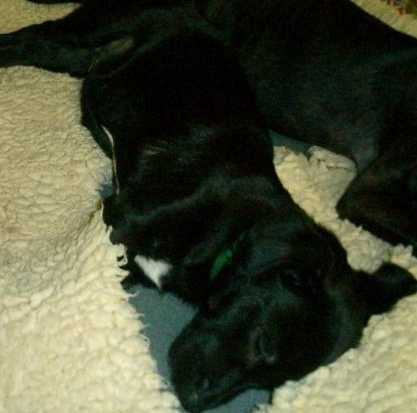dog: (0, 0, 367, 404)
